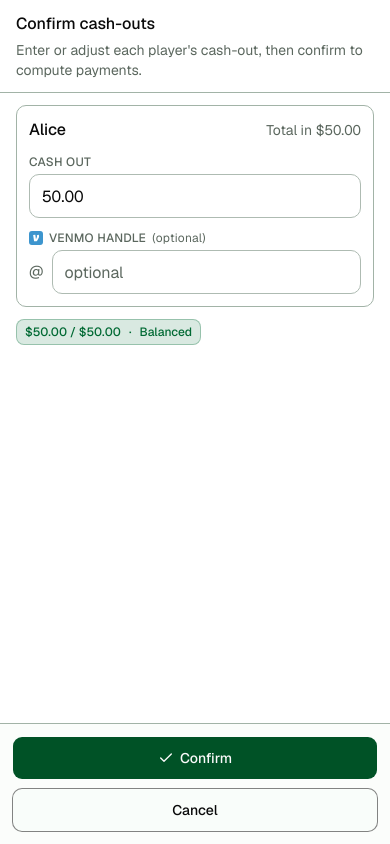
it: SettlingModal › blocks confirm and shows an inline error when a Venmo handle is invalid
The width and height of the screenshot is (390, 844).
Step 1. Type "no spaces" into the field with test id "settling-venmo-p1" → x=206, y=272, box [52, 250, 361, 294]
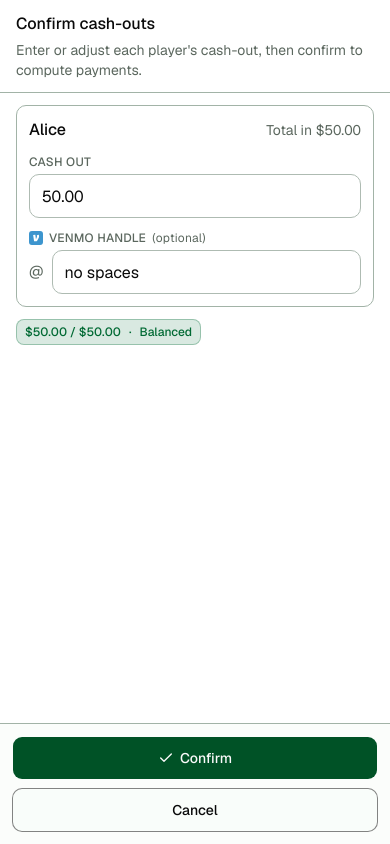
Step 2. Click the button with test id "settling-confirm" → x=195, y=758, box [12, 736, 378, 780]
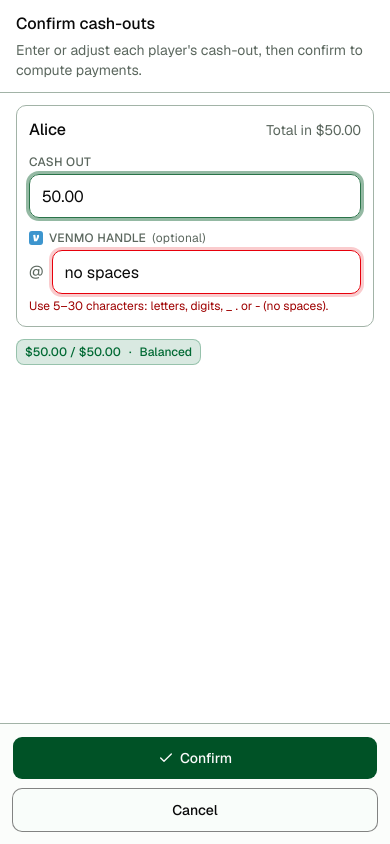
Expected: the text "Use 5–30 characters: letters, digits, _ . or - (no spaces)." is shown, [29, 298, 361, 314]
